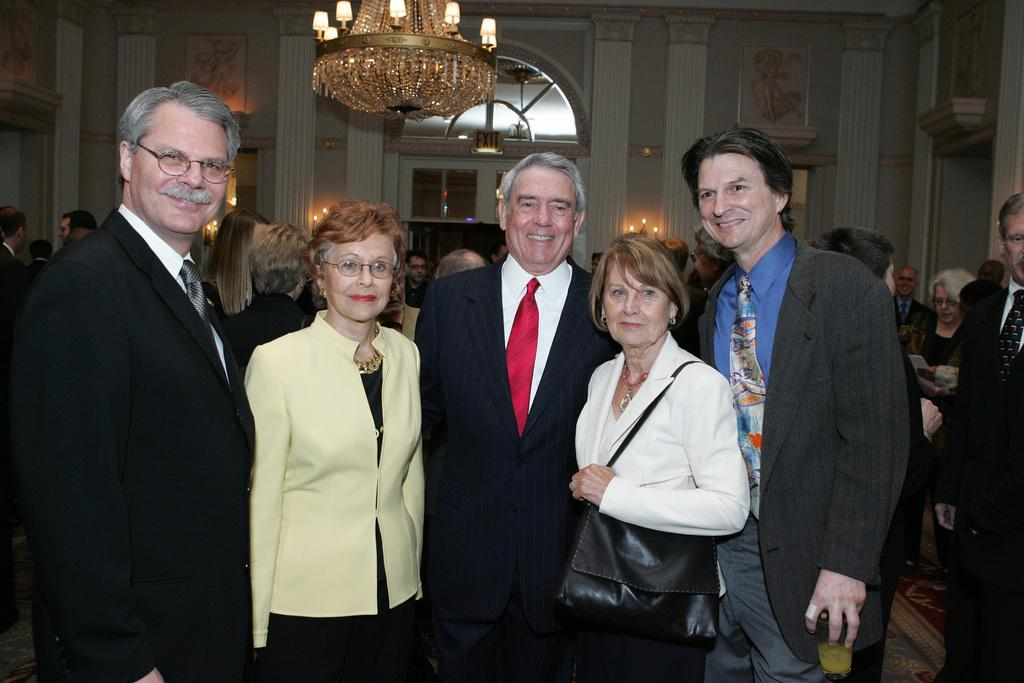Sem Máscara: (132, 100, 226, 230), (504, 157, 579, 261), (696, 150, 768, 241), (323, 228, 394, 316), (600, 254, 668, 344), (1001, 202, 1021, 277), (933, 276, 954, 323)
